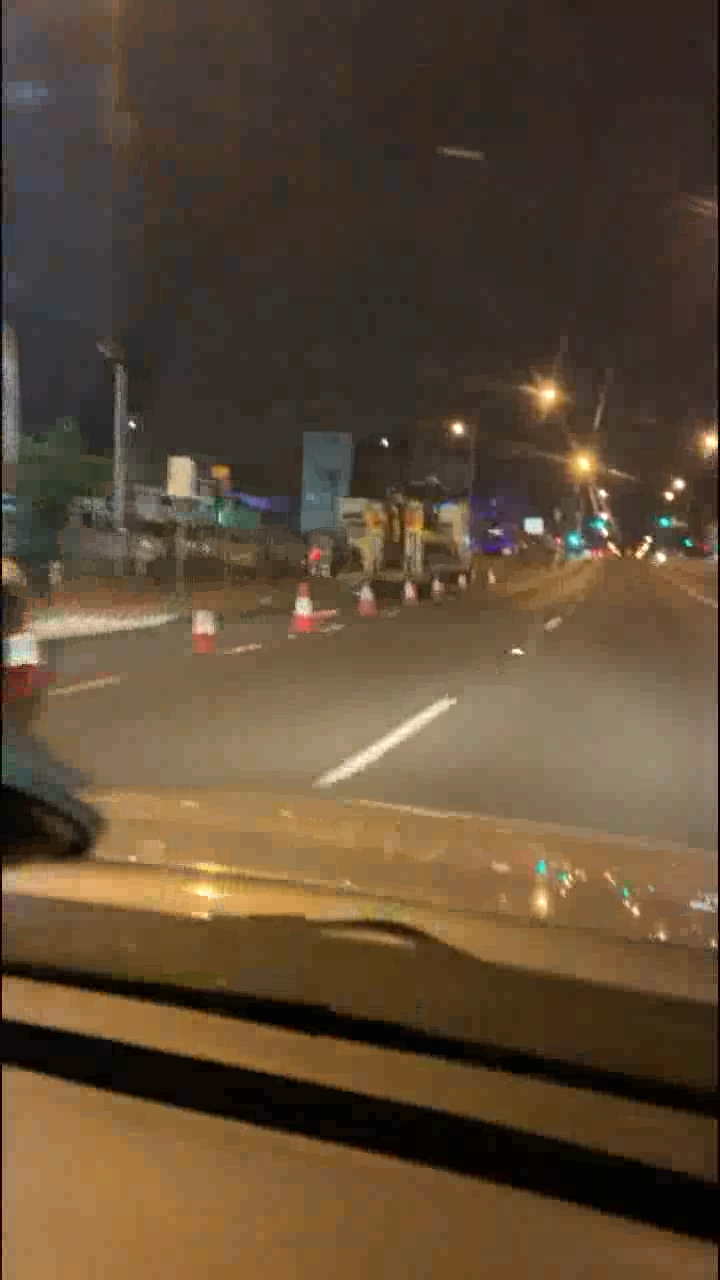road cone: (182, 597, 215, 647), (287, 579, 320, 629), (341, 575, 374, 625)
truck: (273, 405, 500, 563)
